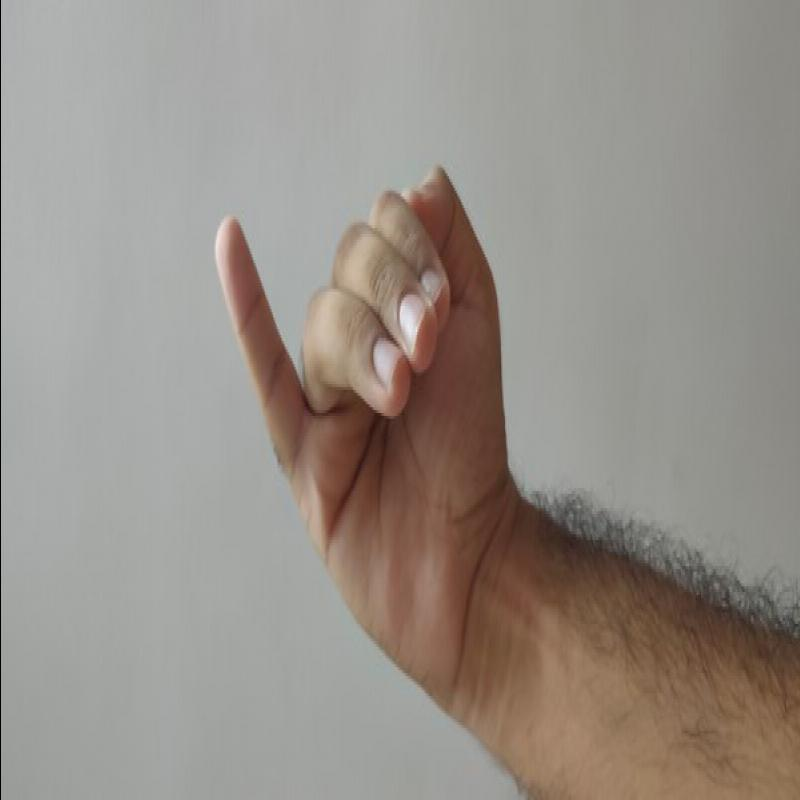Kartharee Mukham: (194, 150, 515, 710)
